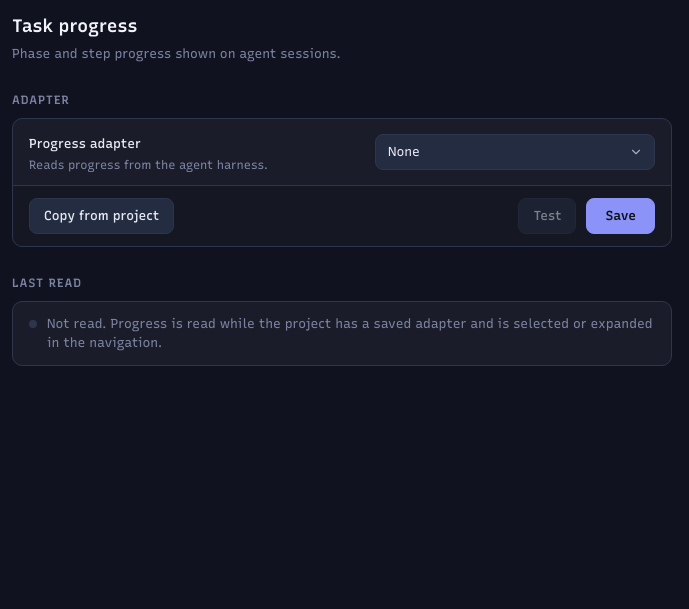
Scenario: TaskProgressSettings › Test shows a typed error with its code
The width and height of the screenshot is (689, 609).
Select "Example · example" in the dropdown with test id "settings-task-progress-adapter-select" at (515, 152), box [375,134,655,170]
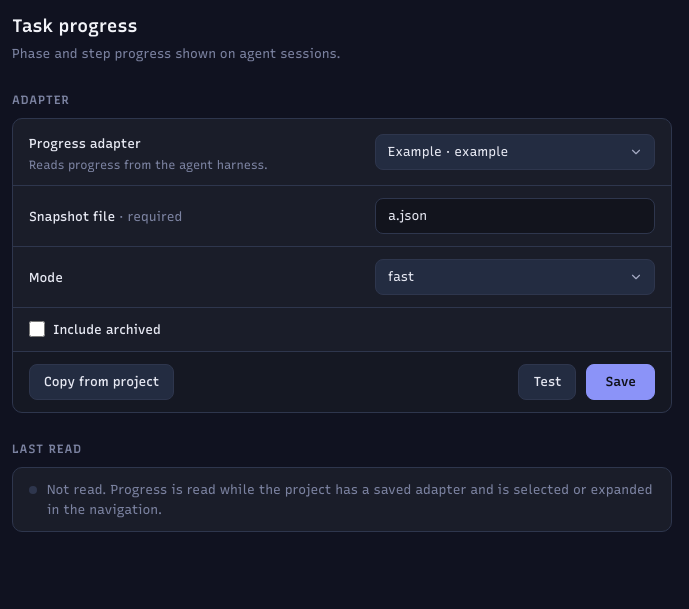
Click the button with test id "settings-task-progress-test".
click(548, 382)  # box [518,364,576,400]
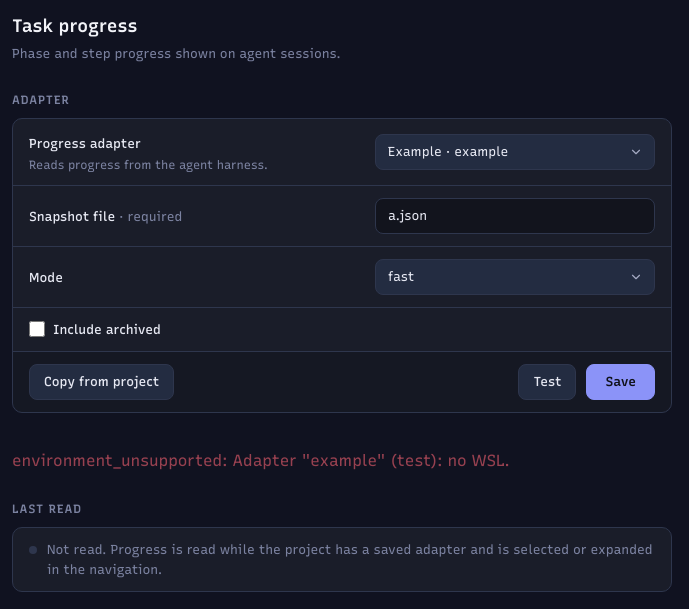
Now the message reads "environment_unsupported: Adapter \"example\" (test): no WSL.", box [12,451,510,470]
